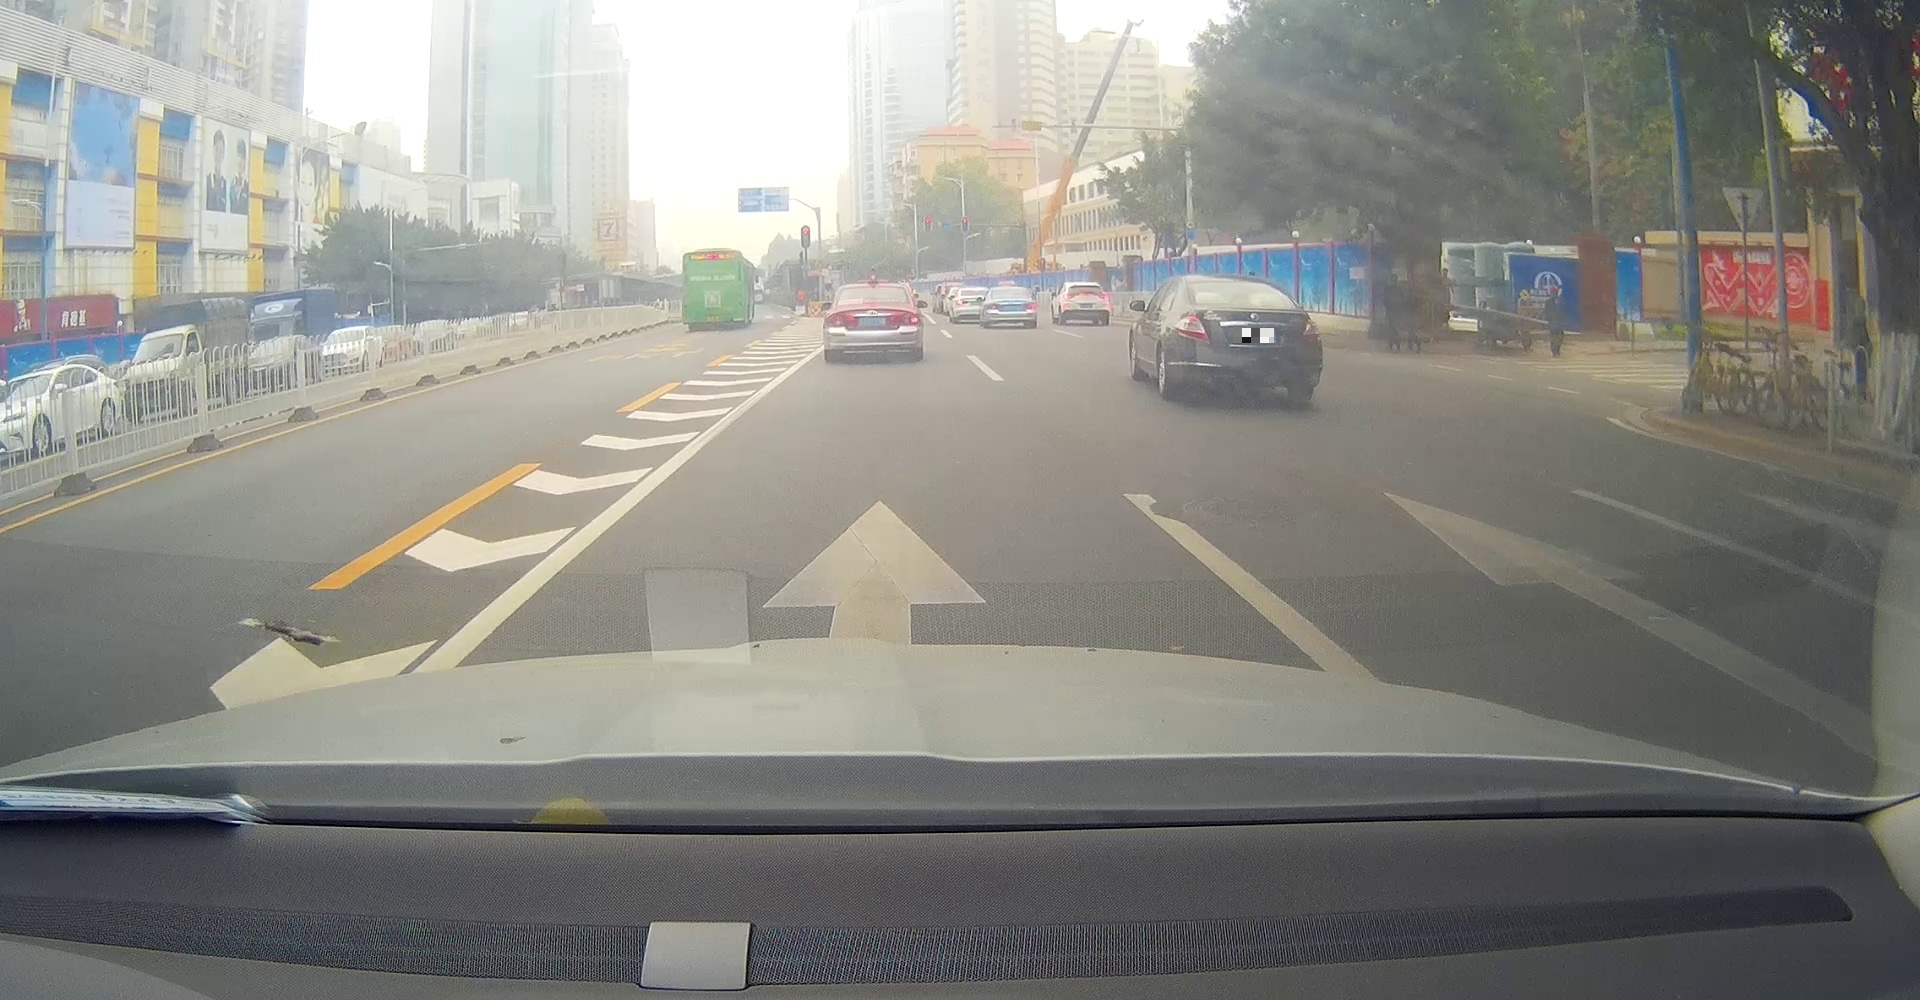L_light: (1175, 315, 1211, 343), (825, 311, 855, 325)
R_light: (1299, 317, 1321, 340), (894, 311, 921, 325)
T_light: (1222, 280, 1250, 287), (867, 286, 885, 291)
day-no: (1171, 277, 1324, 401)
night-no: (822, 280, 924, 363)
plate_1: (1233, 327, 1274, 343)
